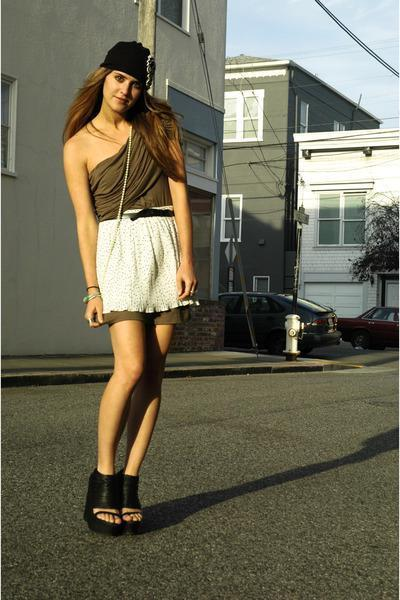skirt: (89, 207, 202, 323)
